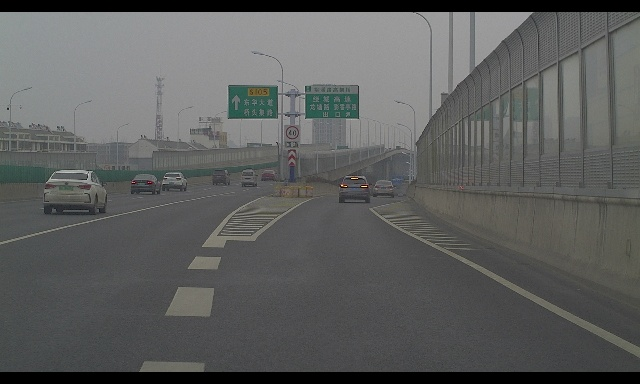car: (44, 170, 108, 215), (338, 175, 373, 203), (131, 174, 161, 195), (162, 172, 187, 192), (372, 180, 395, 197), (241, 168, 258, 187), (212, 169, 231, 185), (261, 170, 277, 181)
